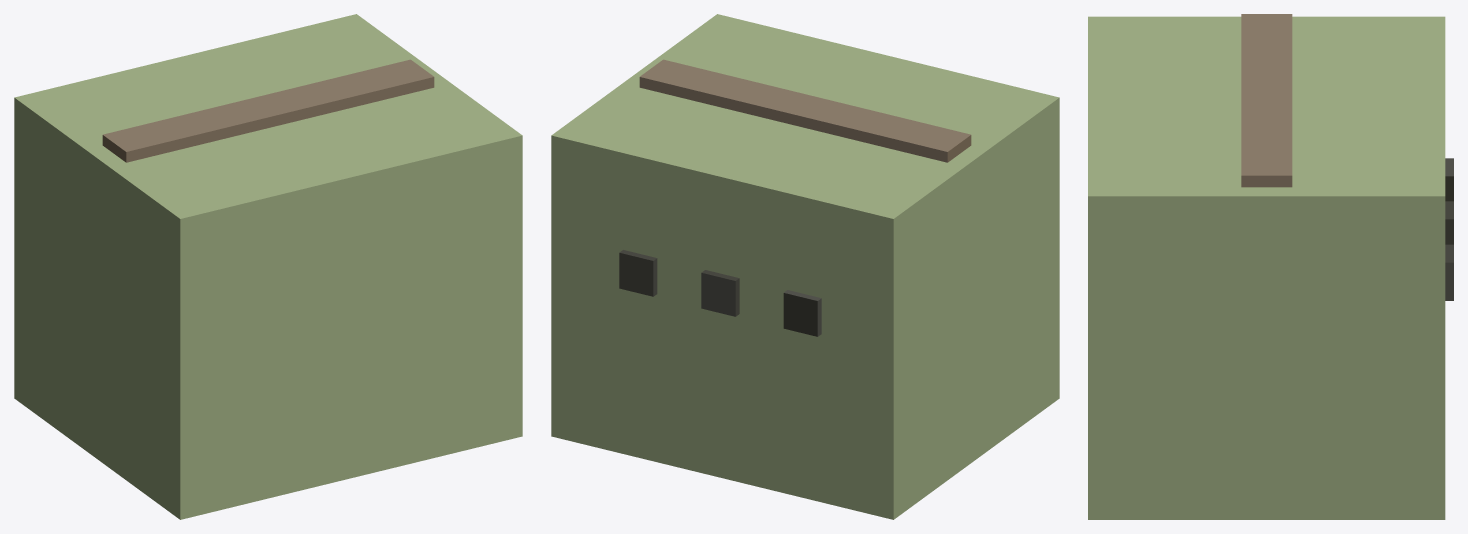
Rendered from living.glb.
3 views of the same model, side by side, from view 1: azimuth 30°, elevation 25°; view 2: azimuth 150°, elevation 25°; view 3: azimuth 270°, elevation 25° (orthographic). The views are drawn at different scales.
Visible parts, largest first — view 1: living2; view 2: living2; view 3: living2.
Part boxes in pixels (<box>): living2: <box>14,14,522,519</box>; living2: <box>551,14,1059,519</box>; living2: <box>1088,14,1453,519</box>.
Bounding box in the file's own units: 0.5 × 0.435 × 0.43.
